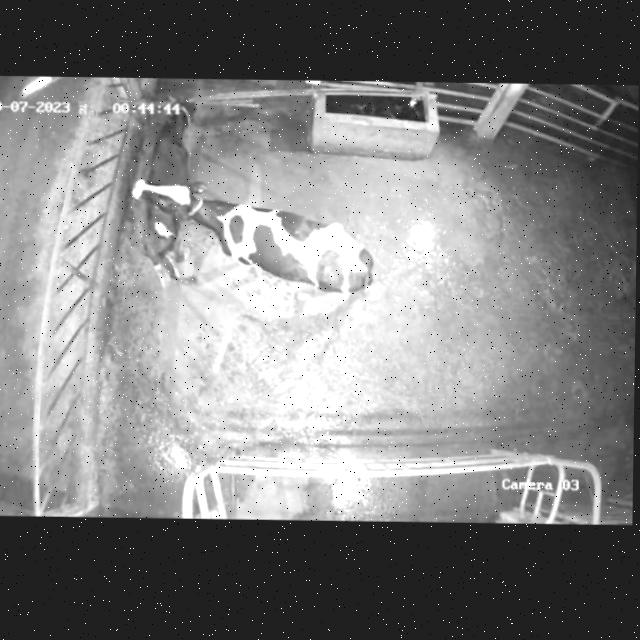propping: (120, 174, 230, 237)
stand: (114, 85, 207, 286)
